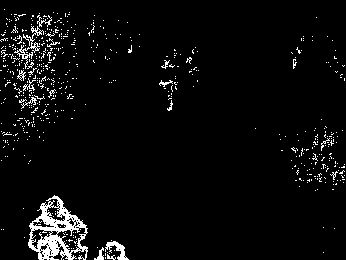person: (28, 193, 87, 260), (160, 54, 179, 111)
